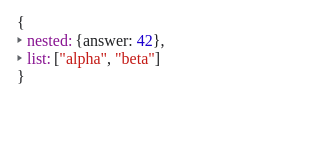
Test: JsonTree › keeps the top level open and renders expandable value previews
Check: the number of list items is 2, box x1=17 y1=32 x2=164 y2=49; x1=17 y1=50 x2=160 y2=67
Check: the list item "nested:{answer: 42}," is shown, box x1=17 y1=32 x2=164 y2=49
Click the button named "Expand JSON node" next to "nested": [21, 40] box x1=17 y1=32 x2=25 y2=48
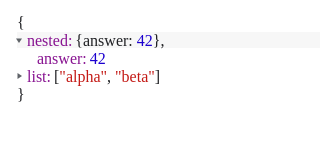
Check: the number of list items is 3, box x1=17 y1=32 x2=164 y2=67; x1=37 y1=50 x2=106 y2=67; x1=17 y1=68 x2=160 y2=85
Check: the text "answer:" is shown, box x1=37 y1=50 x2=87 y2=67
Check: the button named "Collapse JSON node" is shown, box x1=17 y1=32 x2=25 y2=48
